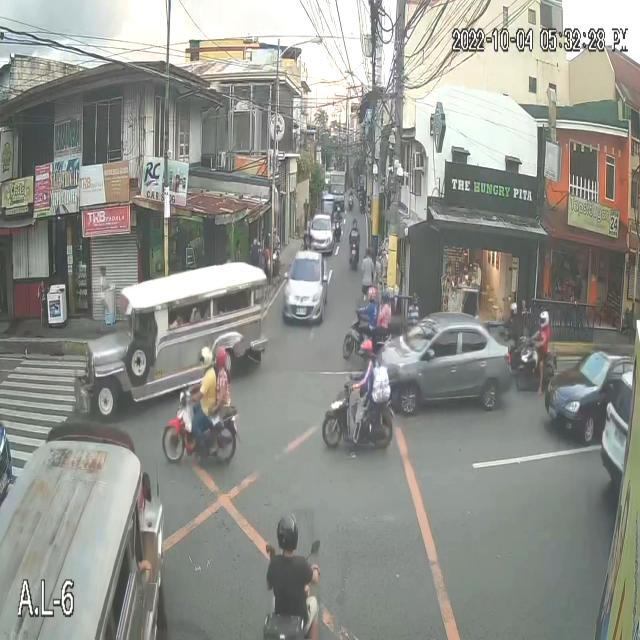Full-Faced: (278, 508, 299, 548), (199, 340, 212, 375), (536, 307, 550, 331), (380, 284, 389, 310), (367, 283, 377, 302), (352, 214, 359, 230), (334, 200, 342, 212)
Half-Faced: (357, 337, 376, 362), (214, 348, 227, 369)
